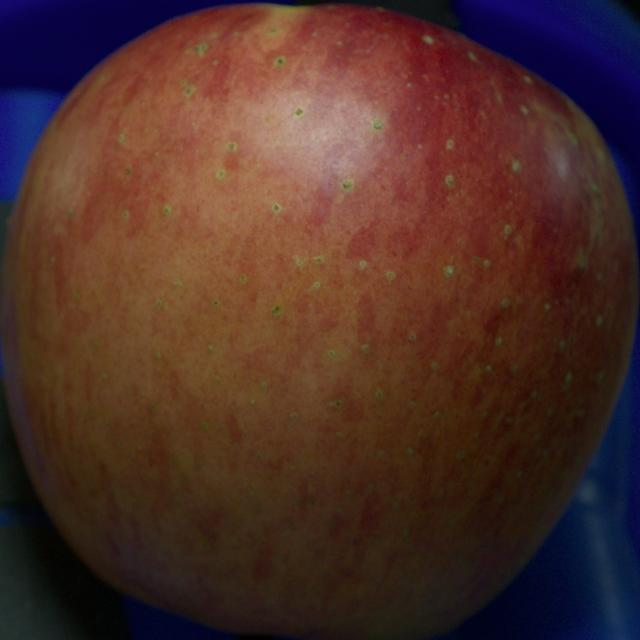apple: (0, 4, 639, 639)
